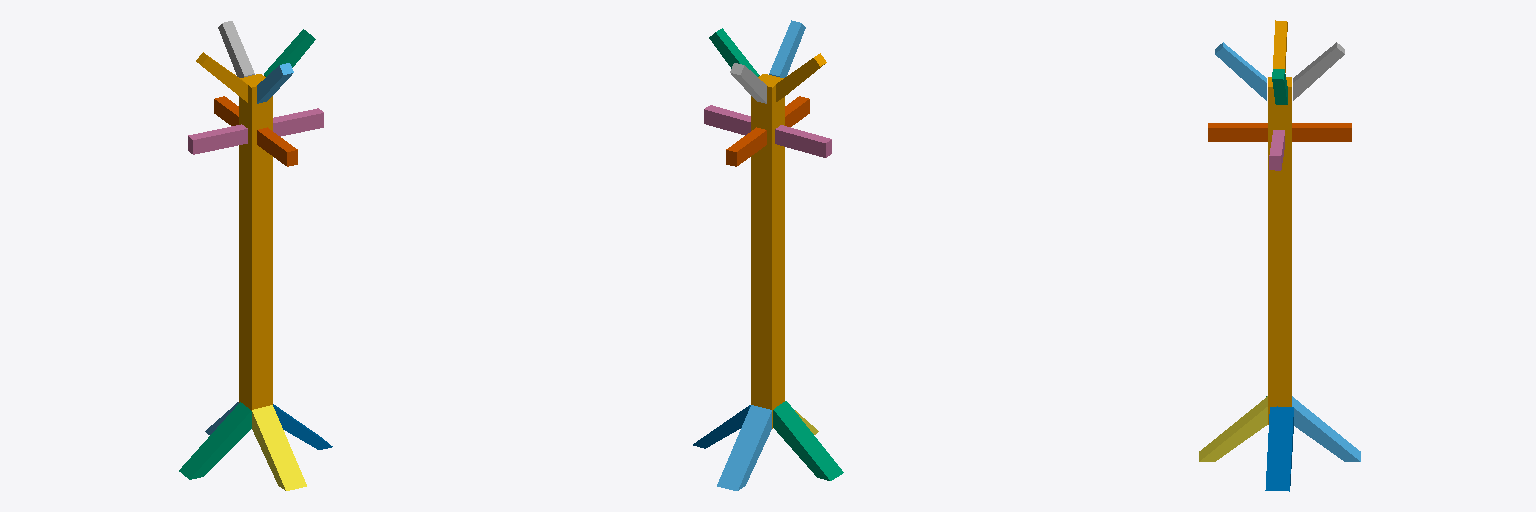
URDF robot description (coatrack):
<?xml version="1.0"?>
<robot name="coatrack">
  <link name="pole">
    <inertial>
        <origin rpy="0 0 0" xyz="0 0 0"/>
        <mass value="2"/>
        <inertia ixx="4.4e-5" ixy="0" ixz="0" iyy="0" iyz="0" izz="4.4e-5"/>
    </inertial>
    <visual>
      <geometry>
        <mesh filename="pole.obj"/>
      </geometry>
    </visual>
    <collision>
      <geometry>
        <mesh filename="pole.obj"/>
      </geometry>
      <surface>
           <bounce restitution_coefficient = "0.1"/>
      </surface>
    </collision>
  </link>
  <link name="leg_1">
    <inertial>
        <origin rpy="0 0 0" xyz="0 0 0"/>
        <mass value="0.1"/>
        <inertia ixx="4.4e-5" ixy="0" ixz="0" iyy="0" iyz="0" izz="4.4e-5"/>
    </inertial>
    <visual>
      <geometry>
        <mesh filename="leg.obj"/>
      </geometry>
    </visual>
    <collision>
      <geometry>
        <mesh filename="leg.obj"/>
      </geometry>
      <surface>
           <bounce restitution_coefficient = "0.1"/>
      </surface>
    </collision>
  </link>
  <link name="leg_2">
    <inertial>
        <origin rpy="0 0 0" xyz="0 0 0"/>
        <mass value="0.1"/>
        <inertia ixx="4.4e-5" ixy="0" ixz="0" iyy="0" iyz="0" izz="4.4e-5"/>
    </inertial>
    <visual>
      <geometry>
        <mesh filename="leg.obj"/>
      </geometry>
    </visual>
    <collision>
      <geometry>
        <mesh filename="leg.obj"/>
      </geometry>
      <surface>
           <bounce restitution_coefficient = "0.1"/>
      </surface>
    </collision>
  </link>
  <link name="leg_3">
    <inertial>
        <origin rpy="0 0 0" xyz="0 0 0"/>
        <mass value="0.1"/>
        <inertia ixx="4.4e-5" ixy="0" ixz="0" iyy="0" iyz="0" izz="4.4e-5"/>
    </inertial>
    <visual>
      <geometry>
        <mesh filename="leg.obj"/>
      </geometry>
    </visual>
    <collision>
      <geometry>
        <mesh filename="leg.obj"/>
      </geometry>
      <surface>
           <bounce restitution_coefficient = "0.1"/>
      </surface>
    </collision>
  </link>
  <link name="leg_4">
    <inertial>
        <origin rpy="0 0 0" xyz="0 0 0"/>
        <mass value="0.1"/>
        <inertia ixx="4.4e-5" ixy="0" ixz="0" iyy="0" iyz="0" izz="4.4e-5"/>
    </inertial>
    <visual>
      <geometry>
        <mesh filename="leg.obj"/>
      </geometry>
    </visual>
    <collision>
      <geometry>
        <mesh filename="leg.obj"/>
      </geometry>
      <surface>
           <bounce restitution_coefficient = "0.1"/>
      </surface>
    </collision>
  </link>
  <link name="rack_1">
    <inertial>
        <origin rpy="0 0 0" xyz="0 0 0"/>
        <mass value="0.2"/>
        <inertia ixx="4.4e-5" ixy="0" ixz="0" iyy="0" iyz="0" izz="4.4e-5"/>
    </inertial>
    <visual>
      <geometry>
        <mesh filename="rack.obj"/>
      </geometry>
    </visual>
    <collision>
      <geometry>
        <mesh filename="rack.obj"/>
      </geometry>
      <surface>
           <bounce restitution_coefficient = "0.1"/>
      </surface>
    </collision>
  </link>
  <link name="rack_2">
    <inertial>
        <origin rpy="0 0 0" xyz="0 0 0"/>
        <mass value="0.2"/>
        <inertia ixx="4.4e-5" ixy="0" ixz="0" iyy="0" iyz="0" izz="4.4e-5"/>
    </inertial>
    <visual>
      <geometry>
        <mesh filename="rack.obj"/>
      </geometry>
    </visual>
    <collision>
      <geometry>
        <mesh filename="rack.obj"/>
      </geometry>
      <surface>
           <bounce restitution_coefficient = "0.1"/>
      </surface>
    </collision>
  </link>
  <link name="hook_1">
    <inertial>
        <origin rpy="0 0 0" xyz="0 0 0"/>
        <mass value="0.1"/>
        <inertia ixx="4.4e-5" ixy="0" ixz="0" iyy="0" iyz="0" izz="4.4e-5"/>
    </inertial>
    <visual>
      <geometry>
        <mesh filename="hook.obj"/>
      </geometry>
    </visual>
    <collision>
      <geometry>
        <mesh filename="hook.obj"/>
      </geometry>
      <surface>
           <bounce restitution_coefficient = "0.1"/>
      </surface>
    </collision>
  </link>
  <link name="hook_2">
    <inertial>
        <origin rpy="0 0 0" xyz="0 0 0"/>
        <mass value="0.1"/>
        <inertia ixx="4.4e-5" ixy="0" ixz="0" iyy="0" iyz="0" izz="4.4e-5"/>
    </inertial>
    <visual>
      <geometry>
        <mesh filename="hook.obj"/>
      </geometry>
    </visual>
    <collision>
      <geometry>
        <mesh filename="hook.obj"/>
      </geometry>
      <surface>
           <bounce restitution_coefficient = "0.1"/>
      </surface>
    </collision>
  </link>
  <link name="hook_3">
    <inertial>
        <origin rpy="0 0 0" xyz="0 0 0"/>
        <mass value="0.1"/>
        <inertia ixx="4.4e-5" ixy="0" ixz="0" iyy="0" iyz="0" izz="4.4e-5"/>
    </inertial>
    <visual>
      <geometry>
        <mesh filename="hook.obj"/>
      </geometry>
    </visual>
    <collision>
      <geometry>
        <mesh filename="hook.obj"/>
      </geometry>
      <surface>
           <bounce restitution_coefficient = "0.1"/>
      </surface>
    </collision>
  </link>
  <link name="hook_4">
    <inertial>
        <origin rpy="0 0 0" xyz="0 0 0"/>
        <mass value="0.1"/>
        <inertia ixx="4.4e-5" ixy="0" ixz="0" iyy="0" iyz="0" izz="4.4e-5"/>
    </inertial>
    <visual>
      <geometry>
        <mesh filename="hook.obj"/>
      </geometry>
    </visual>
    <collision>
      <geometry>
        <mesh filename="hook.obj"/>
      </geometry>
      <surface>
           <bounce restitution_coefficient = "0.1"/>
      </surface>
    </collision>
  </link>
  <joint name="pole_to_leg_1" type="fixed">
    <parent link="pole"/>
    <child link="leg_1"/>
    <origin rpy="0 0 0" xyz="0 0.072 -0.339"/>
  </joint>
  <joint name="pole_to_leg_2" type="fixed">
    <parent link="pole"/>
    <child link="leg_2"/>
    <origin rpy="0 0 1.507" xyz="-0.072 0 -0.339"/>
  </joint>
  <joint name="pole_to_leg_3" type="fixed">
    <parent link="pole"/>
    <child link="leg_3"/>
    <origin rpy="0 0 3.141" xyz="0 -0.072 -0.339"/>
  </joint>
  <joint name="pole_to_leg_4" type="fixed">
    <parent link="pole"/>
    <child link="leg_4"/>
    <origin rpy="0 0 4.648" xyz="0.072 0 -0.339"/>
  </joint>
  <joint name="pole_to_rack_1" type="fixed">
    <parent link="pole"/>
    <child link="rack_1"/>
    <origin rpy="0 0 0" xyz="0 0 0.222"/>
  </joint>
  <joint name="pole_to_rack_2" type="fixed">
    <parent link="pole"/>
    <child link="rack_2"/>
    <origin rpy="0 0 1.507" xyz="0 0 0.222"/>
  </joint>
  <joint name="pole_to_hook_1" type="fixed">
    <parent link="pole"/>
    <child link="hook_1"/>
    <origin rpy="0 0 0" xyz="0 0.062 0.340"/>
  </joint>
  <joint name="pole_to_hook_2" type="fixed">
    <parent link="pole"/>
    <child link="hook_2"/>
    <origin rpy="0 0 1.507" xyz="-0.062 0 0.340"/>
  </joint>
  <joint name="pole_to_hook_3" type="fixed">
    <parent link="pole"/>
    <child link="hook_3"/>
    <origin rpy="0 0 3.141" xyz="0 -0.062 0.340"/>
  </joint>
  <joint name="pole_to_hook_4" type="fixed">
    <parent link="pole"/>
    <child link="hook_4"/>
    <origin rpy="0 0 4.648" xyz="0.062 0 0.340"/>
  </joint>
</robot>

--- Facts derived from the render (not from the file) ---
The picture shows the robot from 3 angles, left to right: view 1: azimuth 30°, elevation 25°; view 2: azimuth 150°, elevation 25°; view 3: azimuth 270°, elevation 25°; orthographic projection.
Model coatrack with 11 links and 10 joints (10 fixed), rooted at pole, posed all joints at 0.
Links seen in each view (by area): view 1: pole, leg_3, rack_2, leg_2, rack_1, hook_1, hook_2, leg_4, hook_4, hook_3; view 2: pole, leg_1, leg_2, rack_2, rack_1, hook_3, hook_2, hook_4, hook_1, leg_4; view 3: pole, rack_1, leg_4, leg_3, leg_1, hook_1, hook_3, hook_2, rack_2.
Boxes of the visible links, x1,y1,x2,y2 form: pole: (239, 74, 272, 410); leg_3: (252, 405, 306, 490); rack_2: (188, 108, 323, 154); leg_2: (179, 402, 251, 479); rack_1: (214, 96, 297, 166); hook_1: (218, 21, 254, 77); hook_2: (196, 52, 247, 102); leg_4: (273, 404, 332, 449); hook_4: (264, 29, 315, 76); hook_3: (257, 63, 293, 103); pole: (751, 74, 784, 428); leg_1: (717, 405, 771, 490); leg_2: (773, 401, 843, 480); rack_2: (704, 105, 831, 157); rack_1: (726, 96, 809, 166); hook_3: (769, 20, 805, 77); hook_2: (776, 53, 826, 101); hook_4: (709, 28, 759, 76); hook_1: (730, 63, 766, 103); leg_4: (693, 405, 750, 448); pole: (1268, 77, 1291, 424); rack_1: (1208, 123, 1351, 141); leg_4: (1265, 406, 1293, 491); leg_3: (1199, 396, 1267, 461); leg_1: (1292, 396, 1360, 461); hook_1: (1293, 42, 1344, 100); hook_3: (1215, 42, 1266, 100); hook_2: (1273, 20, 1287, 72); rack_2: (1269, 130, 1284, 170).
Bounding box of the posed robot: 0.2759 × 0.2736 × 0.7682 m (x, y, z).
11 mesh visuals loaded from 4 distinct referenced files (4 OBJ).